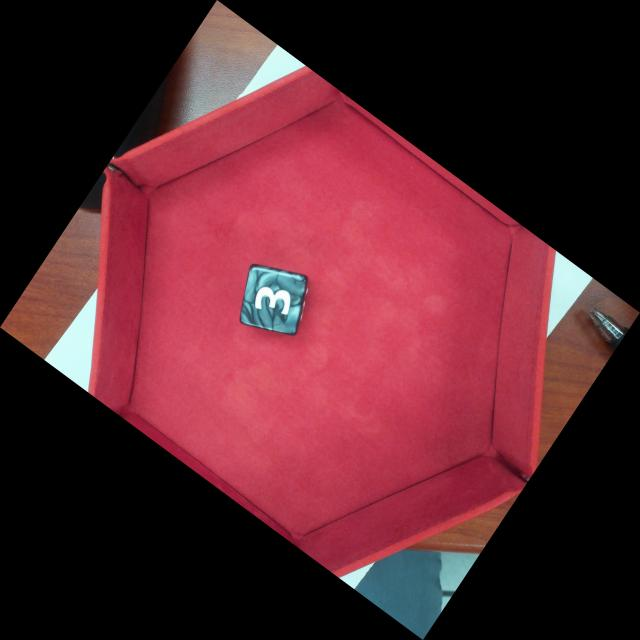dice: (237, 262, 309, 338)
